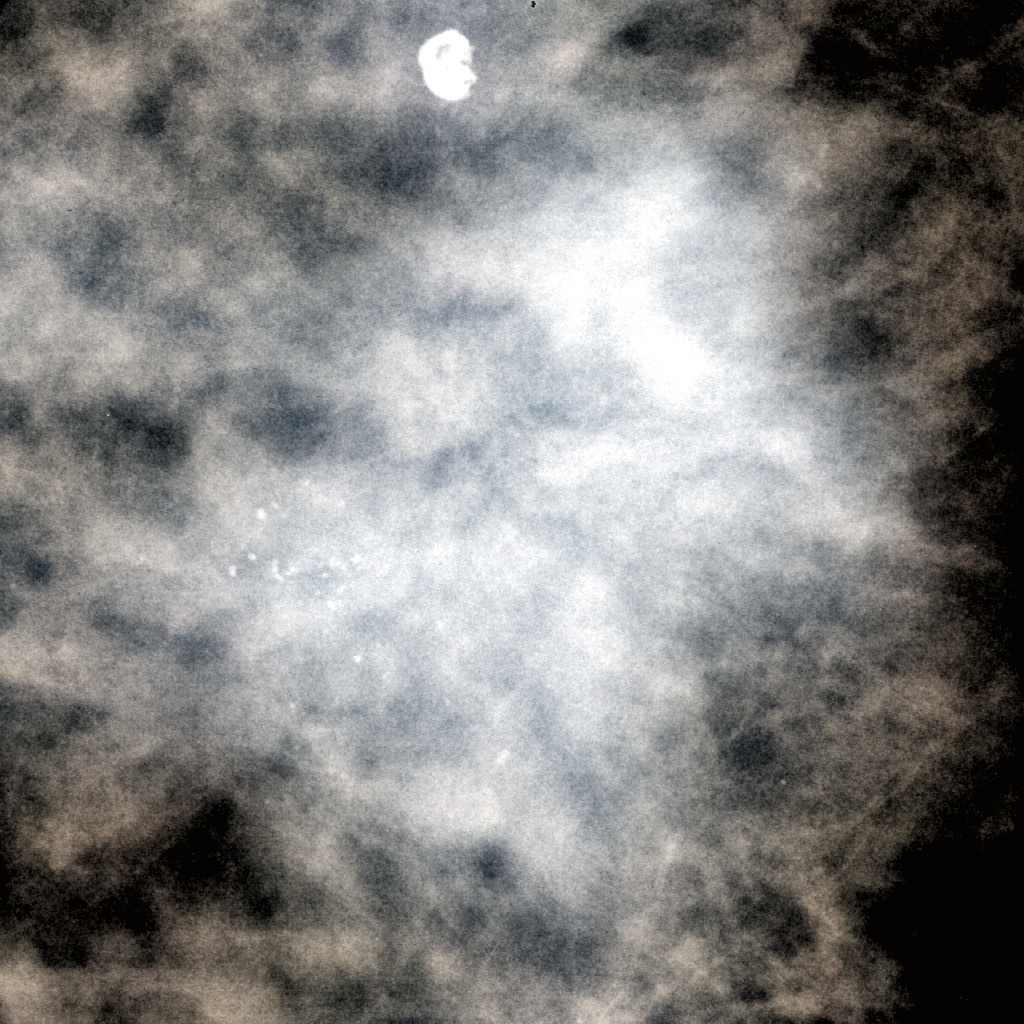tumor: (181, 210, 843, 814)
